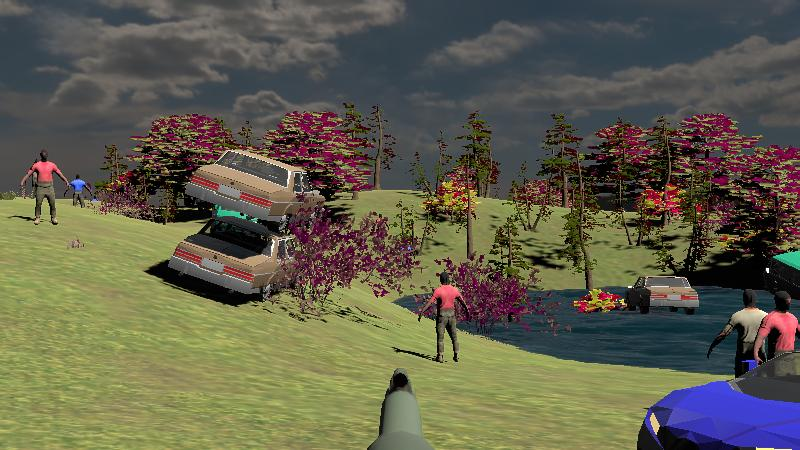Human: (753, 289, 800, 409), (419, 271, 469, 363), (24, 148, 69, 226), (23, 150, 69, 224), (65, 173, 90, 211)
car: (184, 149, 326, 240), (167, 211, 304, 303), (762, 247, 800, 338), (626, 274, 699, 316)
